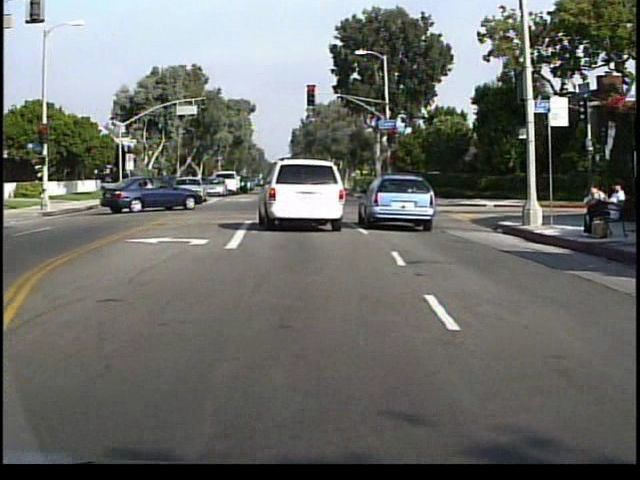person: (597, 178, 627, 242), (578, 179, 610, 238)
